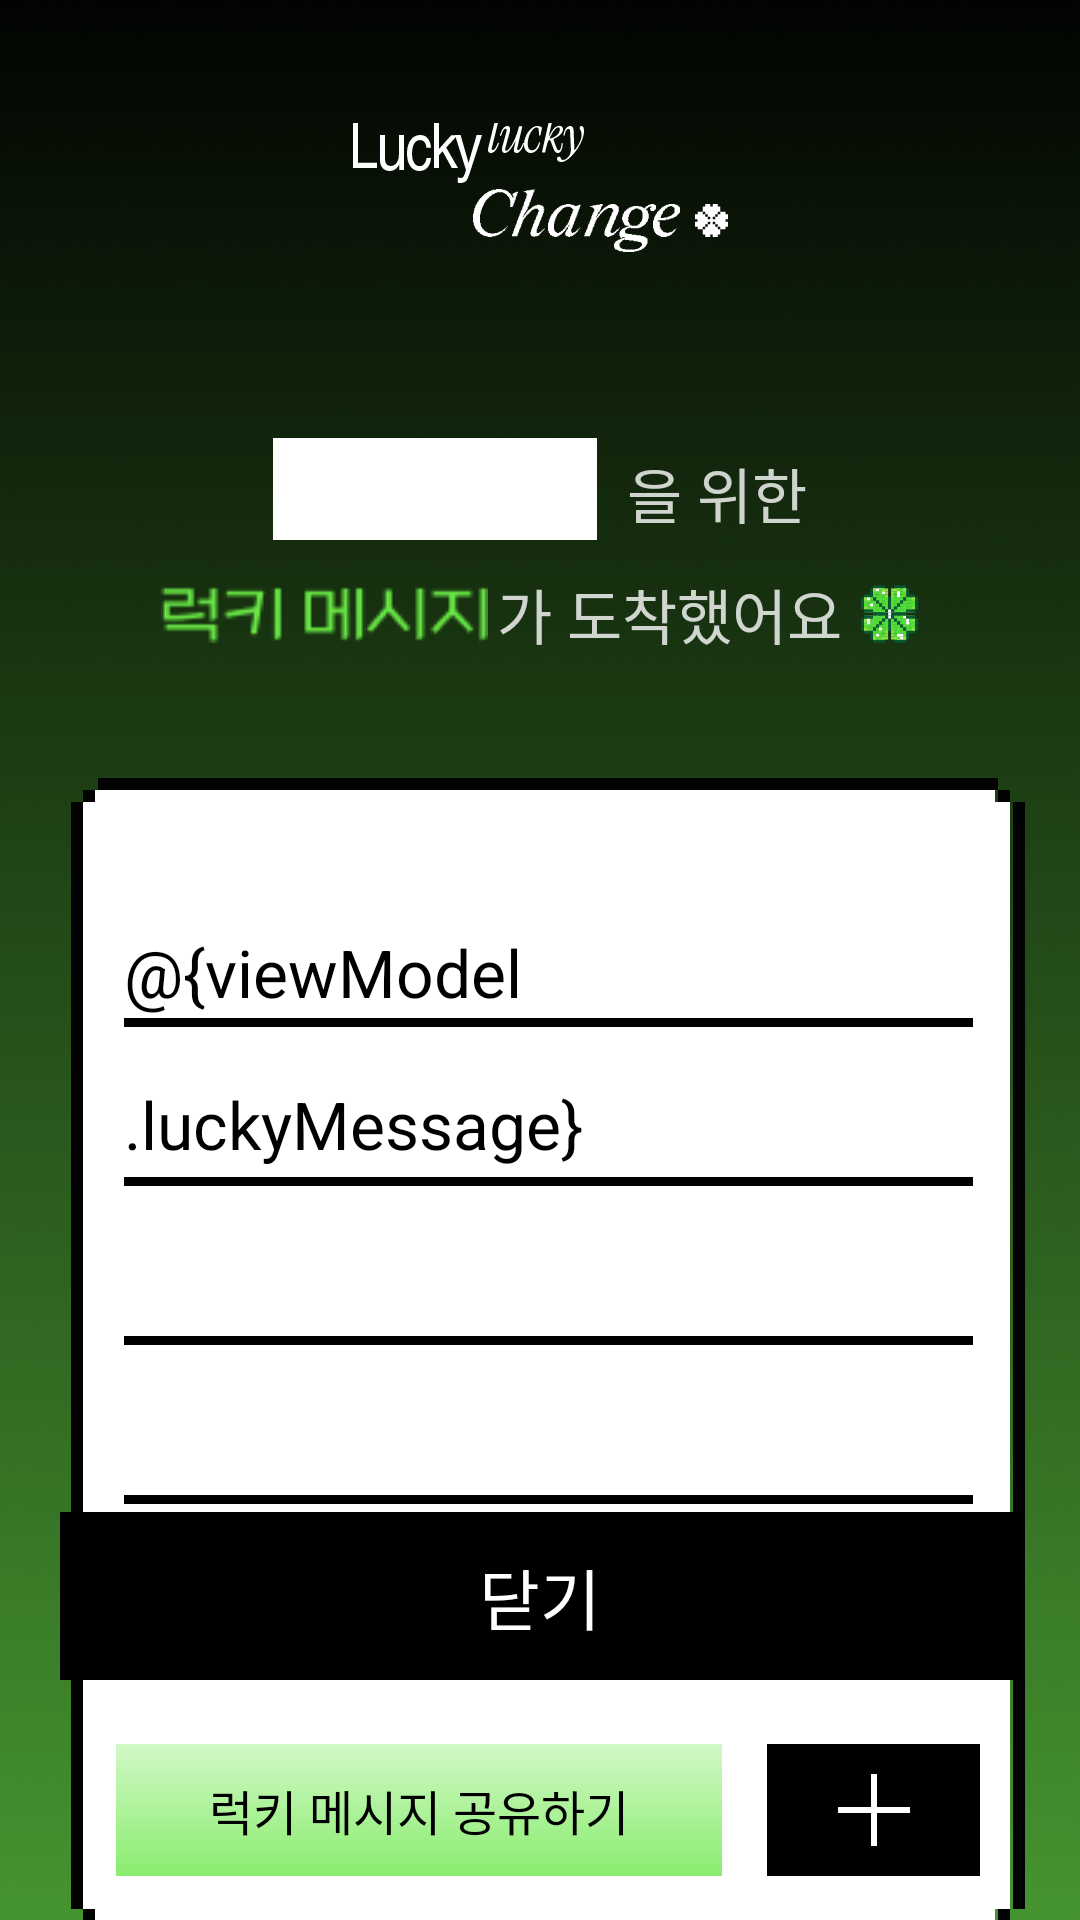

Icons on this 1080px×1920px Android screen, each with the point to tap as (x,y):
capture add: (874,1810)
capture clover: (889,614)
